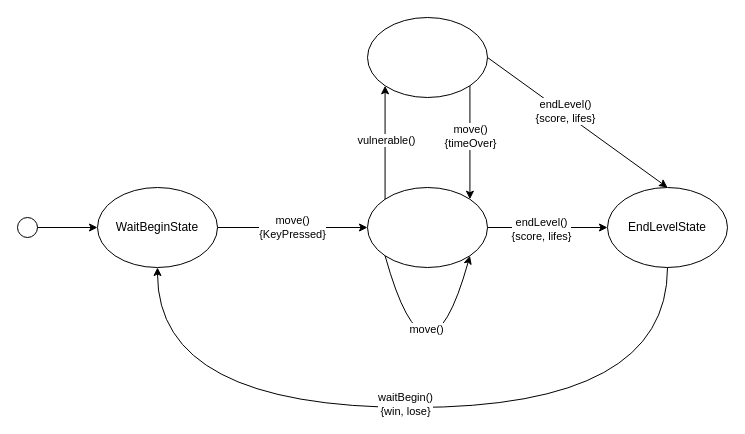
Some shapes in this 745 by 434 pixel diagram are drawn without their labels. Here are the shapes that lost their labels. From the top down, the centre of each, then its label:
(427,57): VulnerableState
(427,227): MoveState
